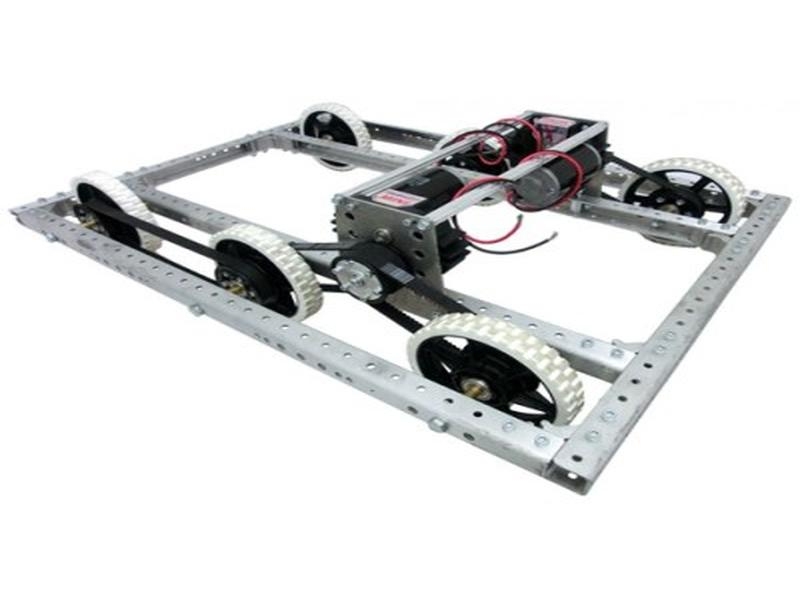robot: (13, 108, 793, 484)
